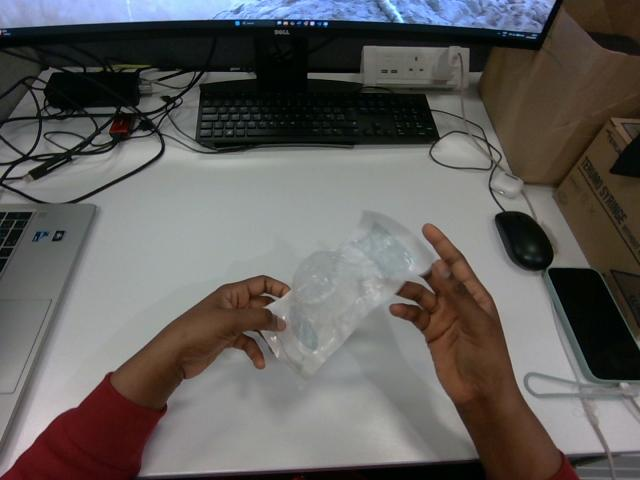gallipot: (263, 211, 433, 379)
